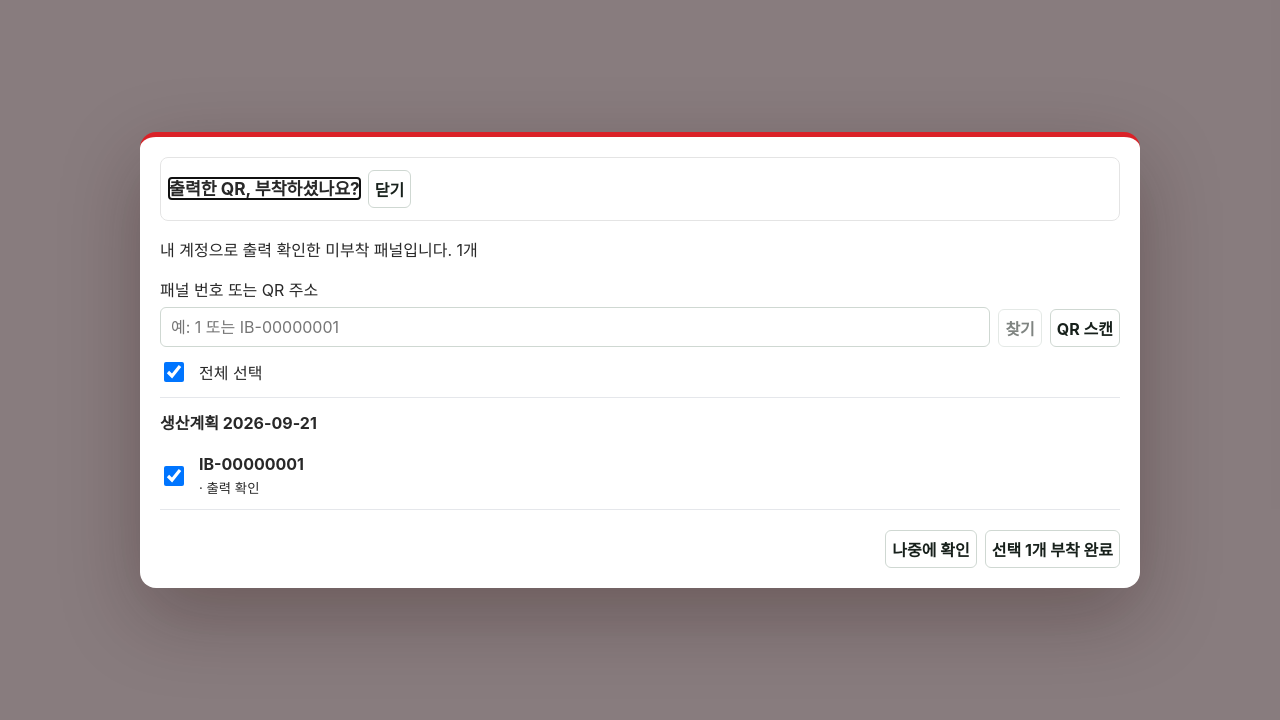
Test: entry lookup excludes unrelated panels
In the field: (575,327) [160,307,990,347], type "2"
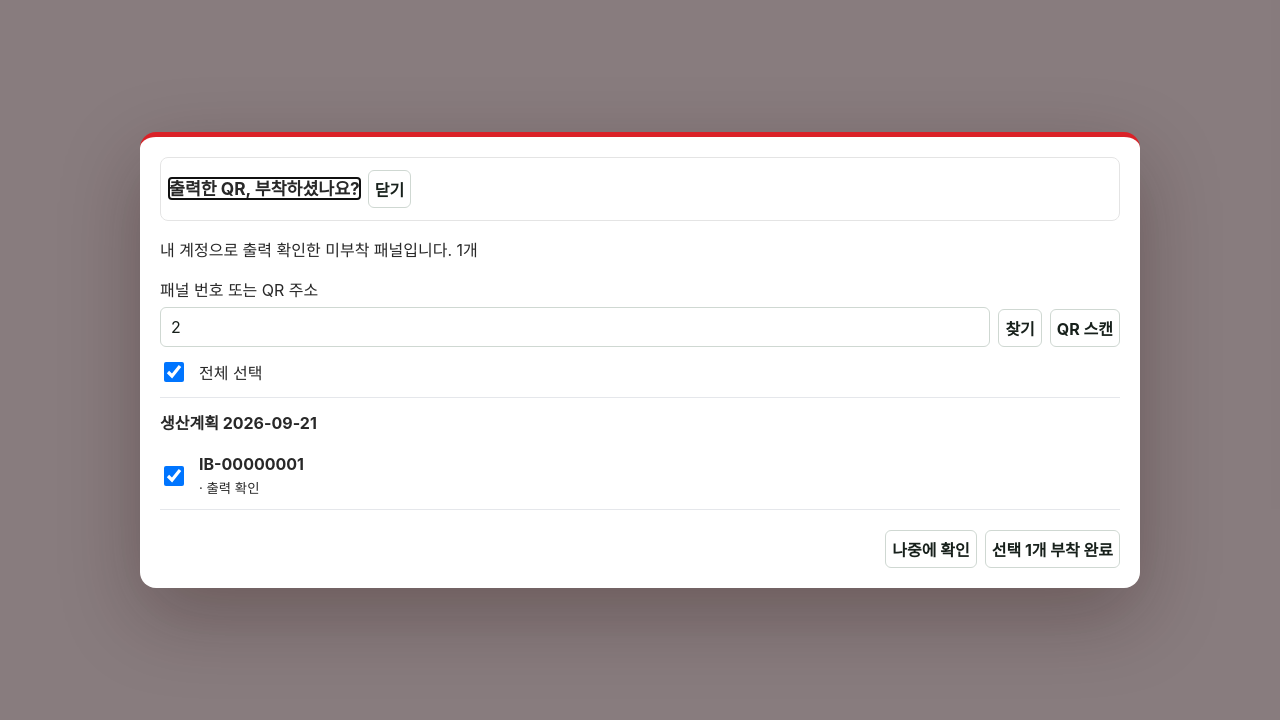
Click the button "찾기": (1020,328) [998,309,1042,347]
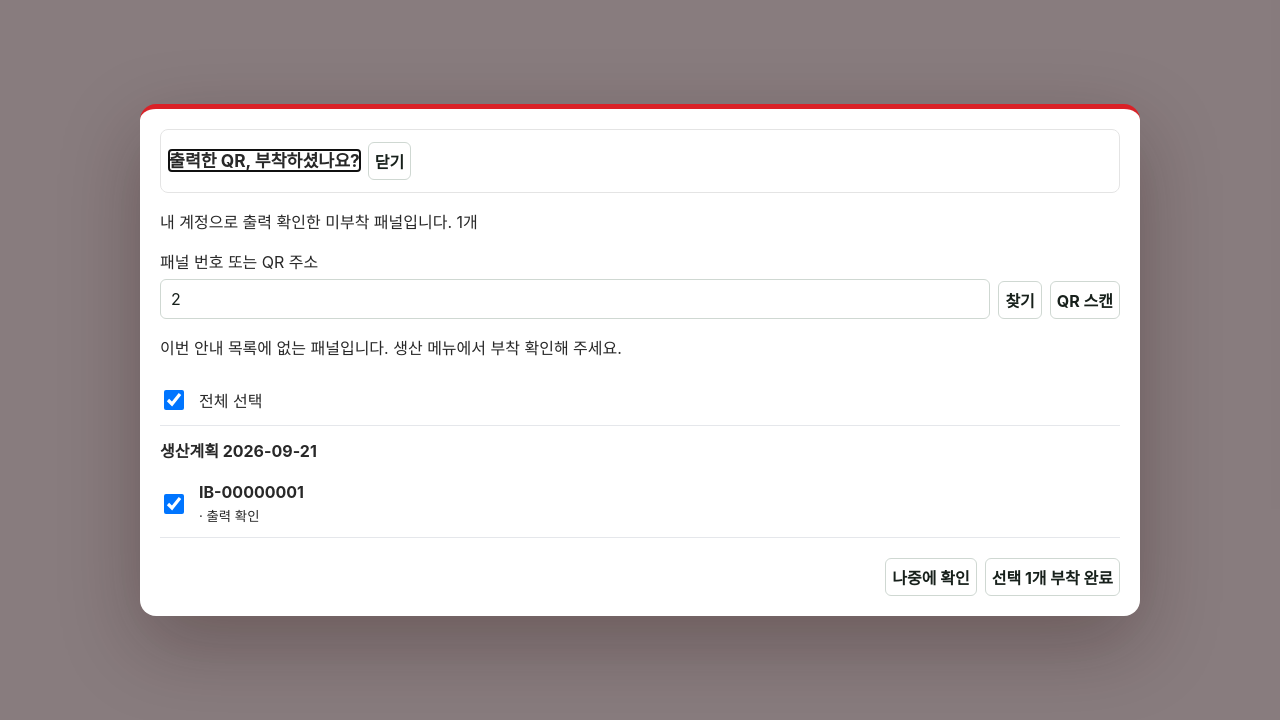
expect the message "이번 안내 목록에 없는 패널입니다. 생산 메뉴에서 부착 확인해 주세요." is shown: met, box [160,338,622,358]
